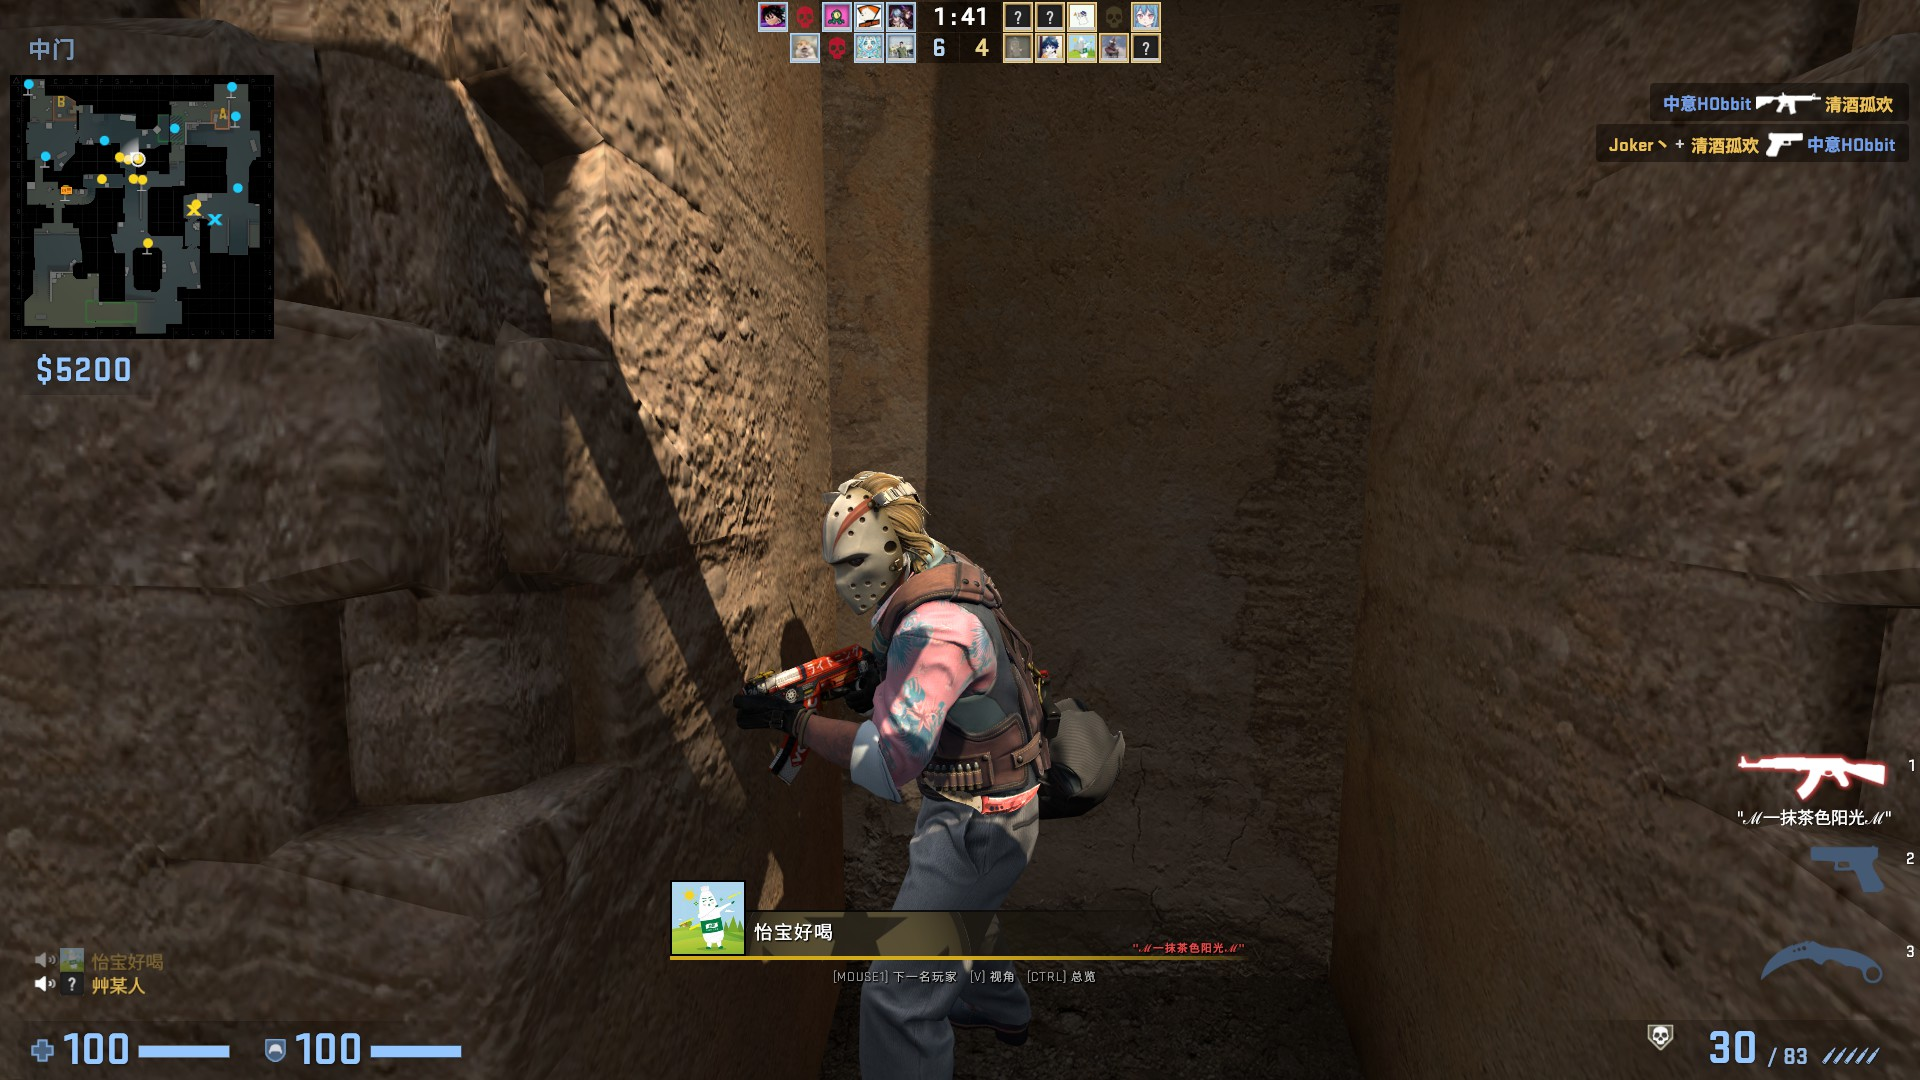head: (821, 472, 936, 608)
